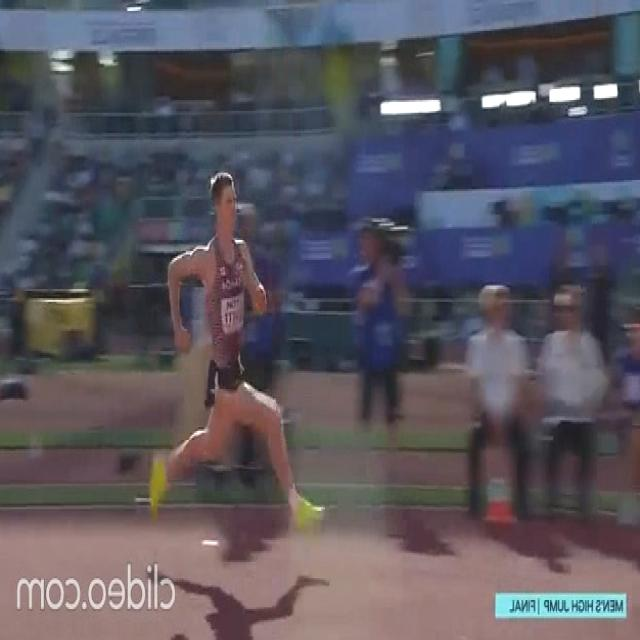run: (150, 168, 324, 517)
